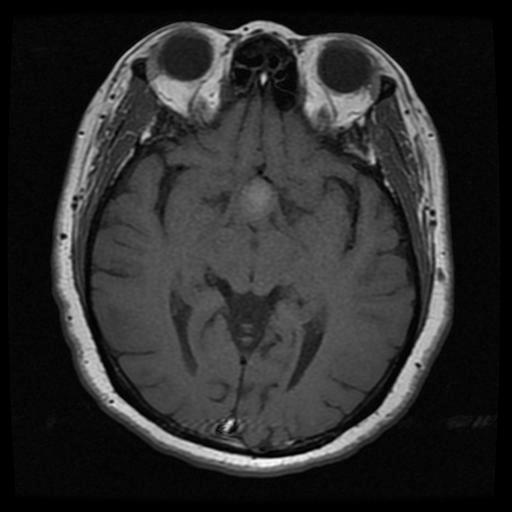Tumour-Pituitary: (239, 176, 282, 215)
